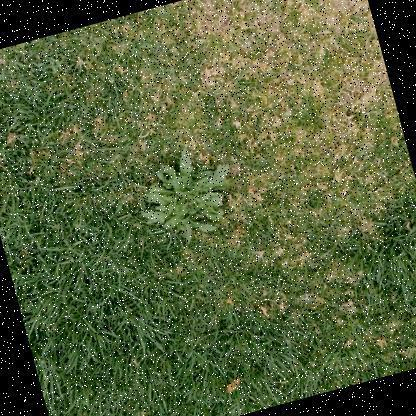Weeds: (127, 134, 254, 255)
